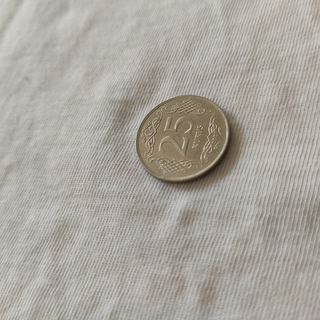25KURUS: (134, 92, 232, 184)
